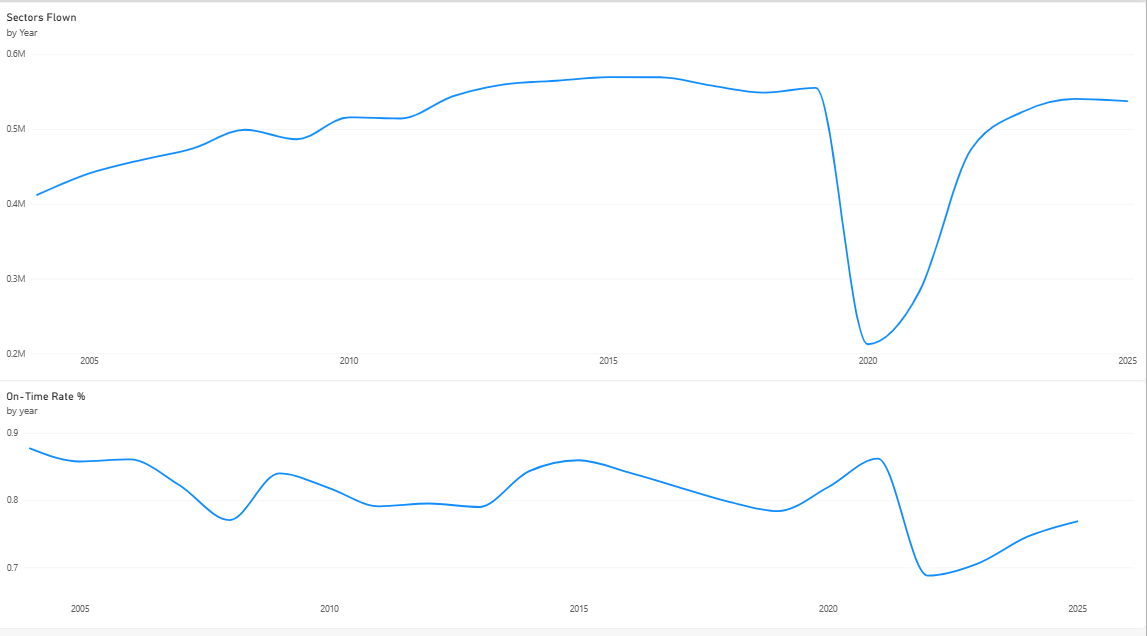

The page's visual inventory and layout, read from the dashboard file:
{"tool":"powerbi","page":{"name":"National Trends","canvas":[1920,1080],"ordinal":0},"visuals":[{"type":"lineChart","fields":{"Category":["flights_monthly.month_date.Variation.Date Hierarchy.Year","flights_monthly.month_date.Variation.Date Hierarchy.Quarter","flights_monthly.month_date.Variation.Date Hierarchy.Month","flights_monthly.month_date.Variation.Date Hierarchy.Day"],"Y":["flights_monthly.Sectors Flown"]},"box":[24,0,1896,624],"z":0},{"type":"lineChart","fields":{"Category":["flights_monthly.year"],"Y":["flights_monthly.On-Time Rate %"]},"box":[24,624,1896,408],"z":1000}]}

Visuals, with their boxes in screenshot pixels (x1, y1, x2, y2), scaled from the page's 1920x1080 canvas onto the 1147x636 screenshot:
lineChart - flights_monthly.month_date.Variation.Date Hierarchy.Year x flights_monthly.month_date.Variation.Date Hierarchy.Quarter: 14/0/1146/367
lineChart - flights_monthly.year x flights_monthly.On-Time Rate %: 14/367/1146/608
